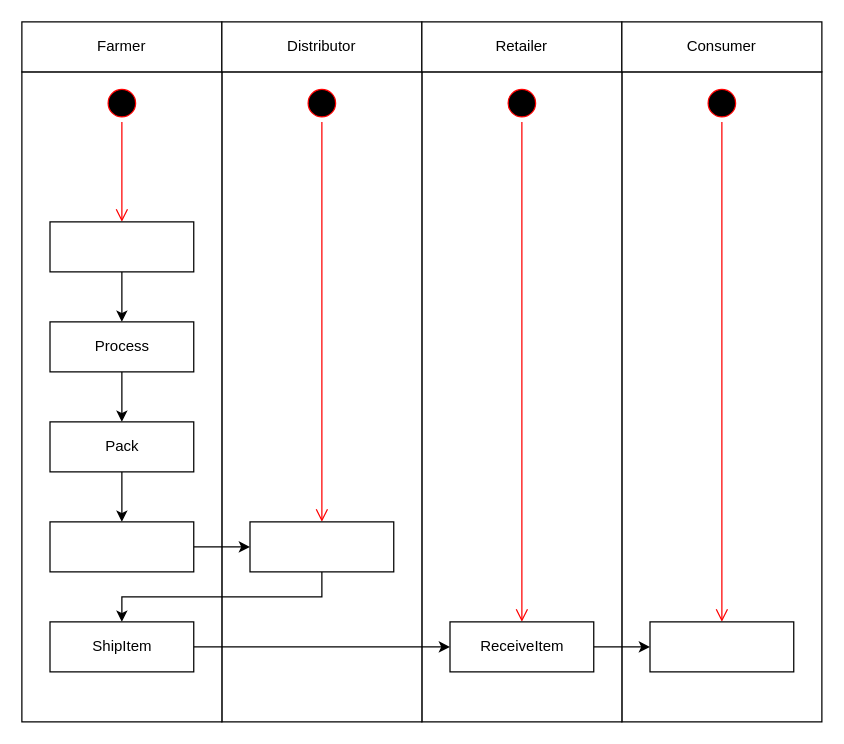
This 844x744 diagram has some shape labels left out. The shapes that lost their labels are listed below. From the top down, each one's centre as x and y in pixels, then its label:
At (x=121, y=246): "Harvest".
At (x=121, y=546): "ForSale".
At (x=321, y=546): "BuyItem".
At (x=721, y=646): "PurchaseItem".
